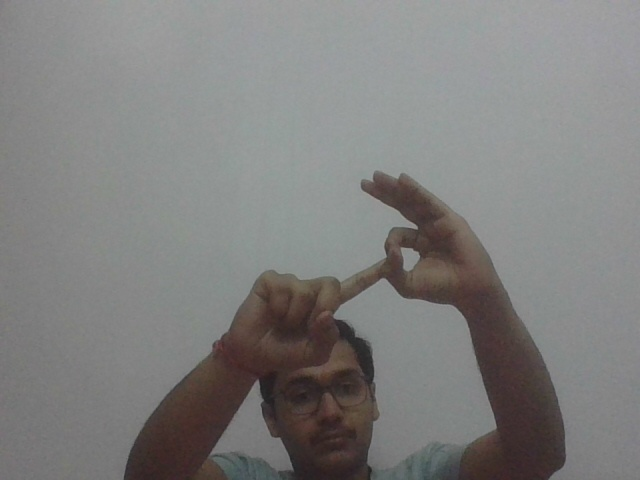Q: (249, 173, 484, 322)
